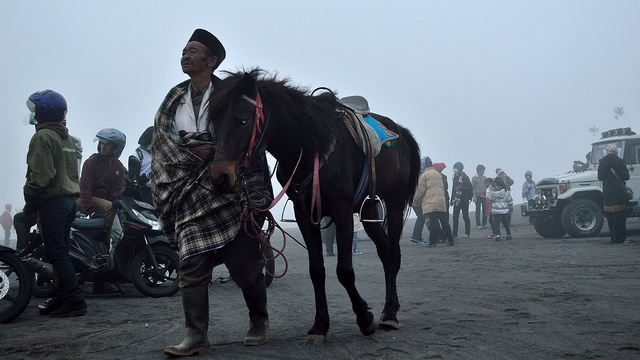non-vehicle: (69, 197, 182, 300), (0, 243, 32, 324)
